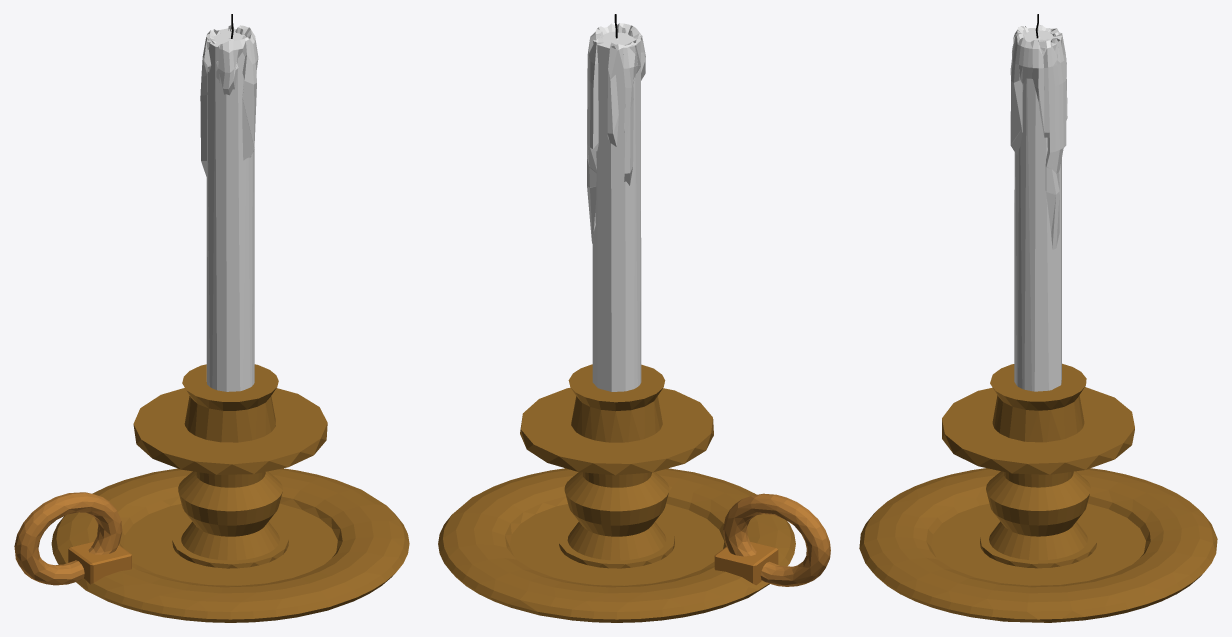
File: Kitchen_SmallProps_CandleSmall_Handle.fbx
The picture shows the model from 3 angles, left to right: view 1: azimuth 30°, elevation 25°; view 2: azimuth 150°, elevation 25°; view 3: azimuth 270°, elevation 25°; orthographic projection.
Parts seen in each view (by area): view 1: Ljushållare, Ljus, Handtag, Melted_part, Cube; view 2: Ljushållare, Ljus, Melted_part, Handtag, Cube; view 3: Ljushållare, Ljus, Melted_part.
Part boxes in pixels (bbox=[...]): Ljushållare: bbox=[51, 364, 409, 622]; Ljus: bbox=[206, 28, 254, 391]; Handtag: bbox=[14, 492, 122, 585]; Melted_part: bbox=[200, 25, 258, 177]; Cube: bbox=[68, 541, 131, 584]; Ljushållare: bbox=[438, 364, 795, 622]; Ljus: bbox=[592, 31, 641, 391]; Melted_part: bbox=[587, 23, 645, 243]; Handtag: bbox=[723, 493, 830, 586]; Cube: bbox=[714, 541, 778, 585]; Ljushållare: bbox=[859, 363, 1217, 622]; Ljus: bbox=[1014, 28, 1061, 391]; Melted_part: bbox=[1010, 24, 1067, 249].
Size of the model in its own units: 17.6 by 24.66 by 14.79.
